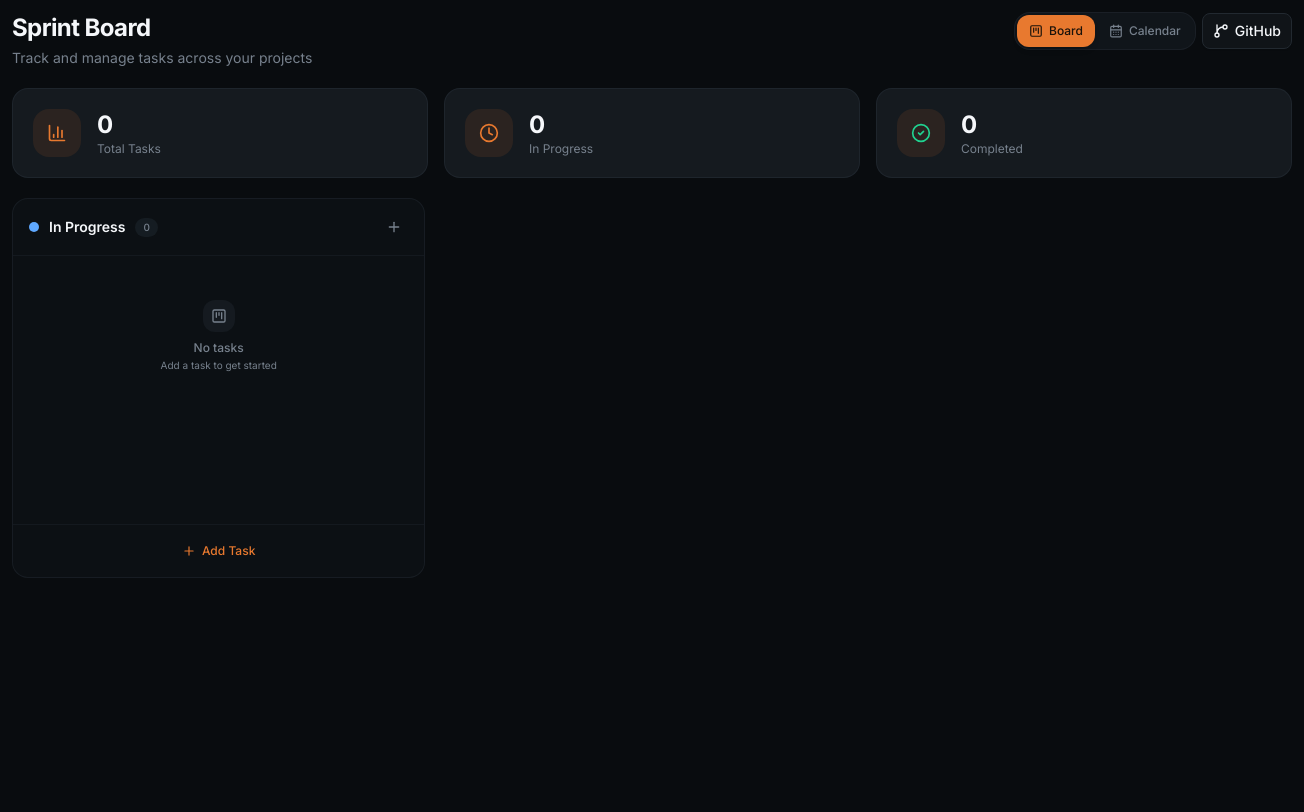
BoardPage calendar › renders board tasks that have a due date on the calendar
The width and height of the screenshot is (1304, 812).
Check: the heading "Sprint Board" is shown, box [12,13,150,42]
Click the button "Calendar".
click(1145, 31)  # box [1097,15,1193,47]
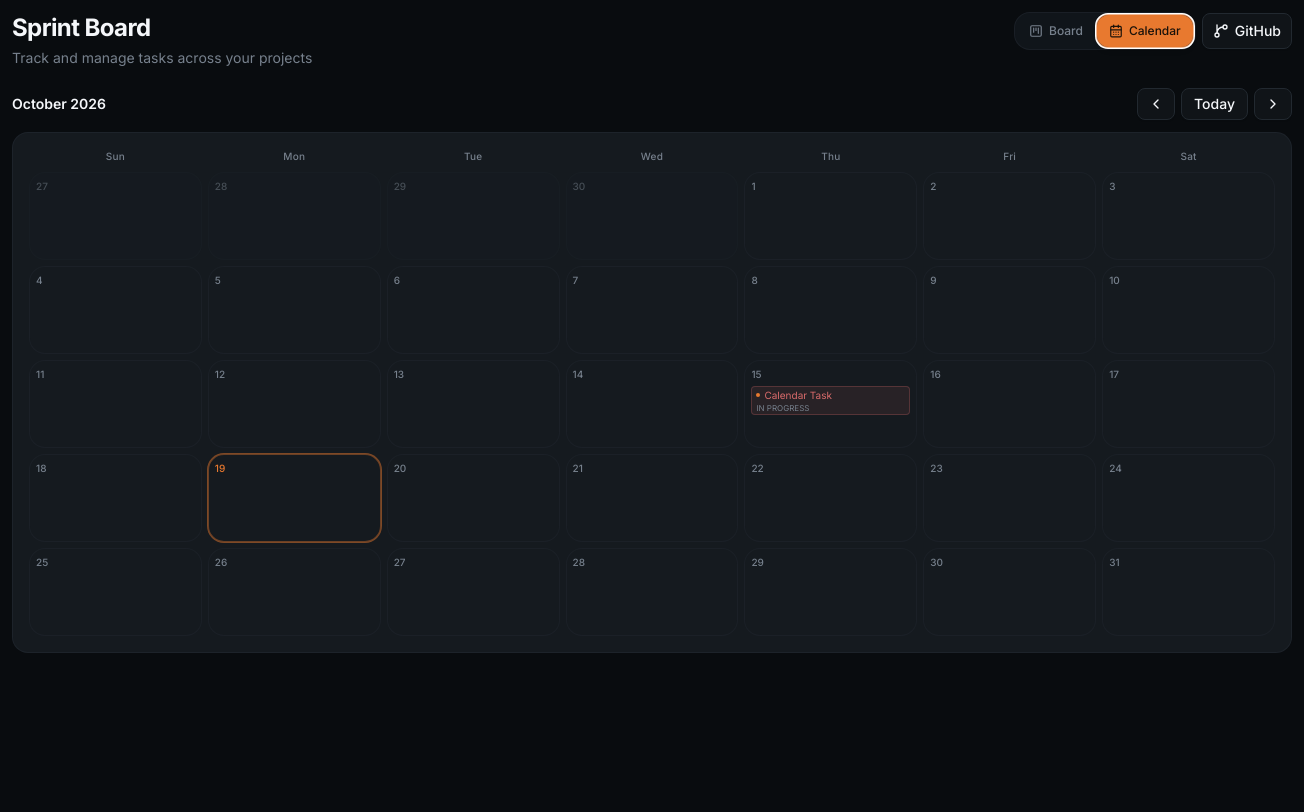
Check: the text "In Progress" is shown, box [756,404,809,412]
Check: the text "Calendar Task" is shown, box [764,389,832,402]
